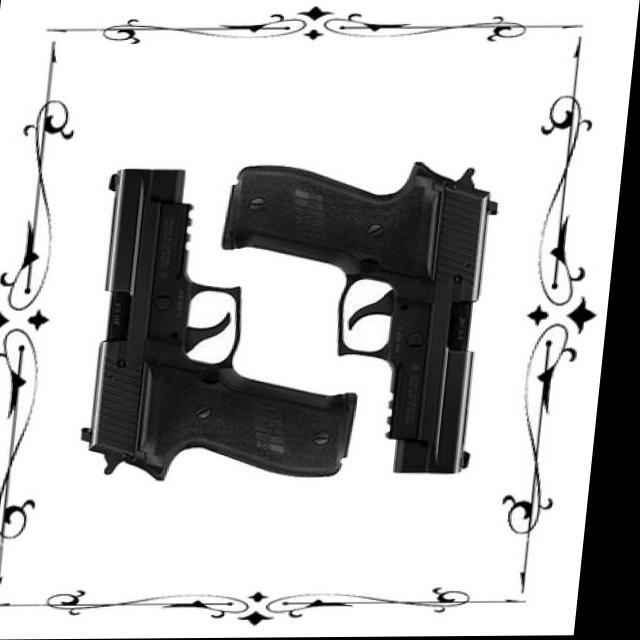handgun: (88, 167, 388, 478), (213, 162, 508, 476)
